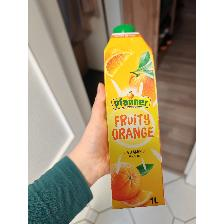Saft: (101, 24, 167, 210)
